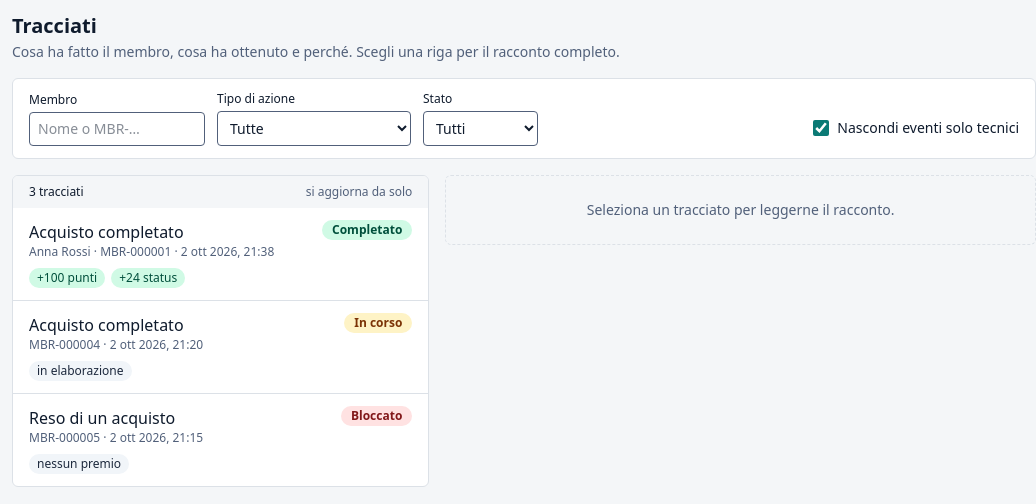
Scenario: BO-25 Tracciati, elenco › filtra per stato
Expected: the text "Anna Rossi · MBR-000001 · 2 ott 2026, 21:38" is shown, [29,244,310,260]
Select "Bloccato" in the dropdown labelled "Stato": (480, 128) [423,111,538,146]
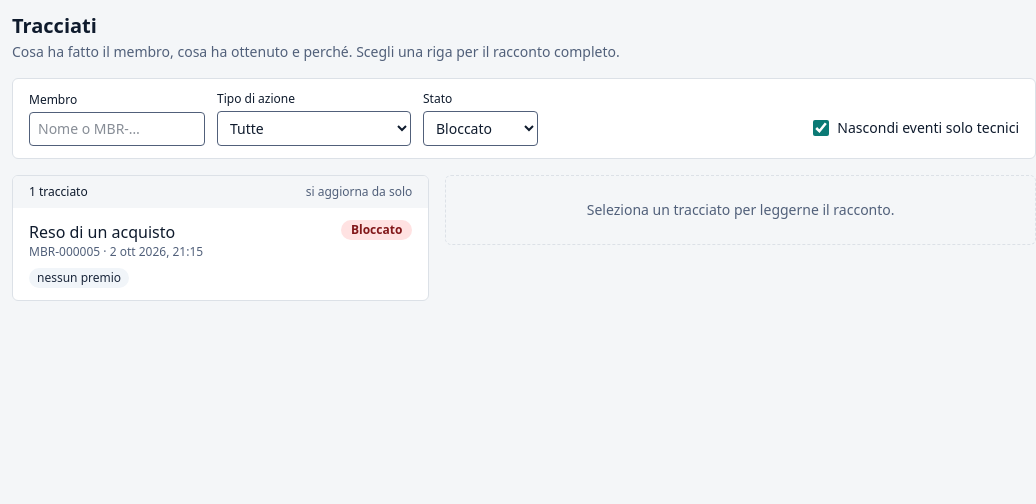
Expected: the elements with test id "trace-status" read "Bloccato", in this order, [341,220,412,240]
